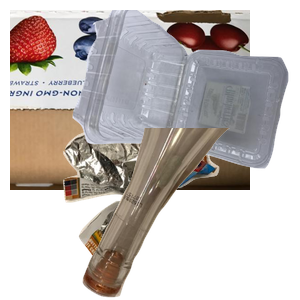cardboard: (10, 10, 250, 190)
glass: (80, 128, 300, 300)
plastic: (70, 10, 300, 171)
trash: (61, 123, 273, 300)
